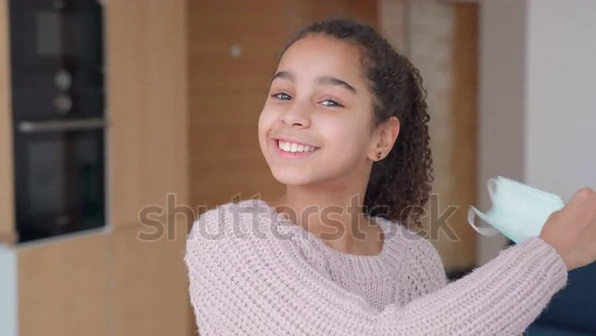No Mask: (248, 116, 357, 187)
